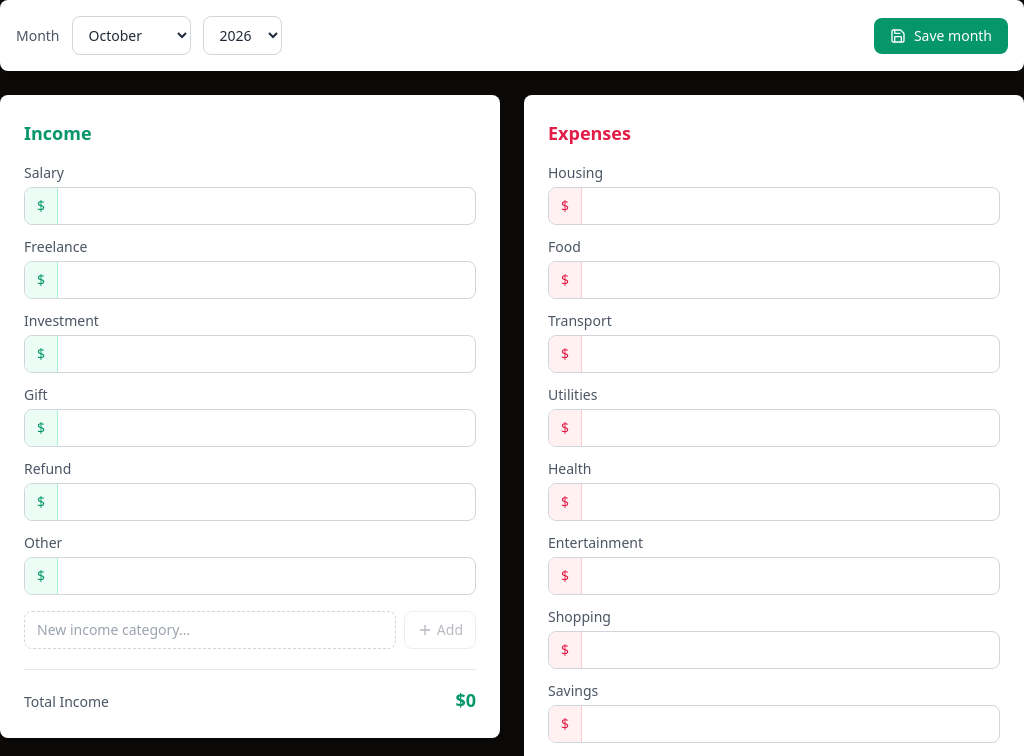
Scenario: MonthlyEntryPanel › surfaces a save failure
Click the button "Save month" at coordinates (941, 36), box [874, 18, 1008, 54]
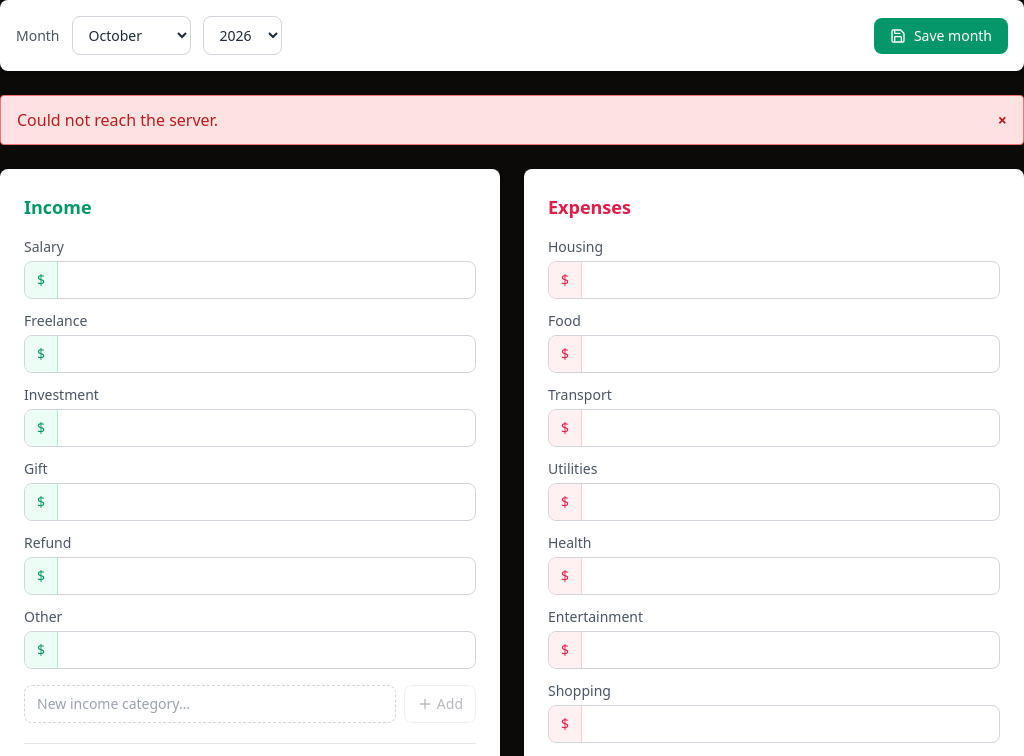
Expected: the text "Could not reach the server." is shown, [17, 108, 218, 132]
